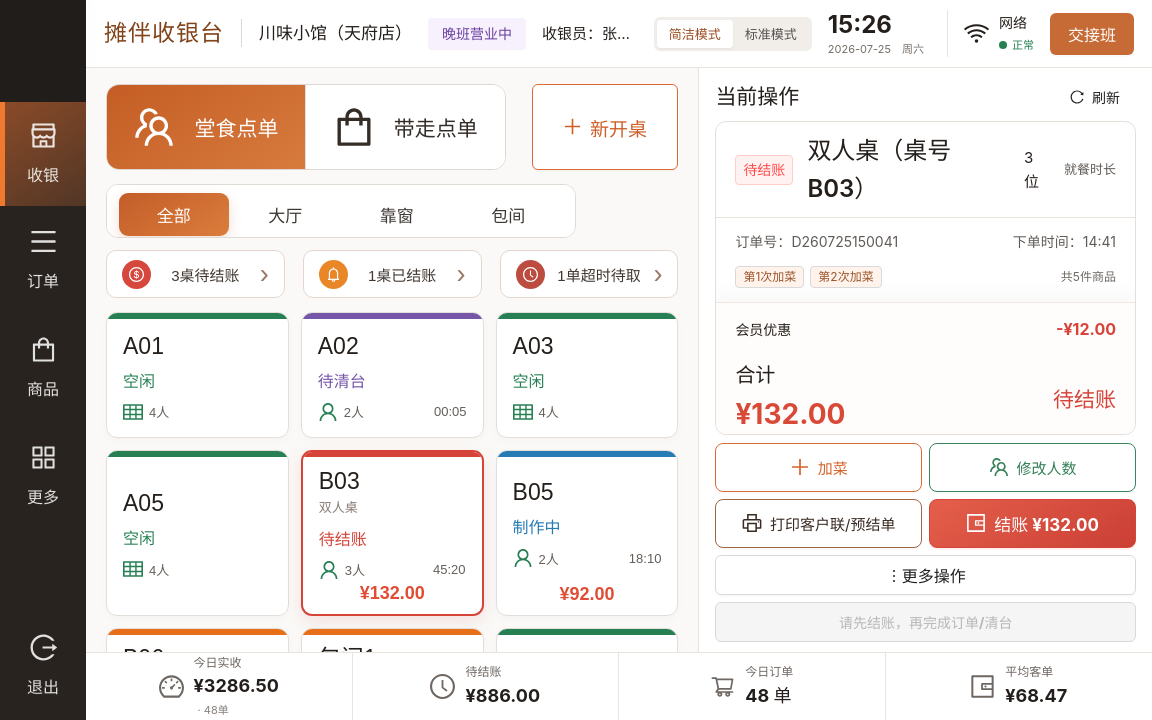
Test case: cashier operations › opens the diner count editor from the persistent action dock
What coordinates should you click on to do the following:
click the button "修改人数"
I would click on:
 (1033, 468)
Its box is [929,443,1136,492].
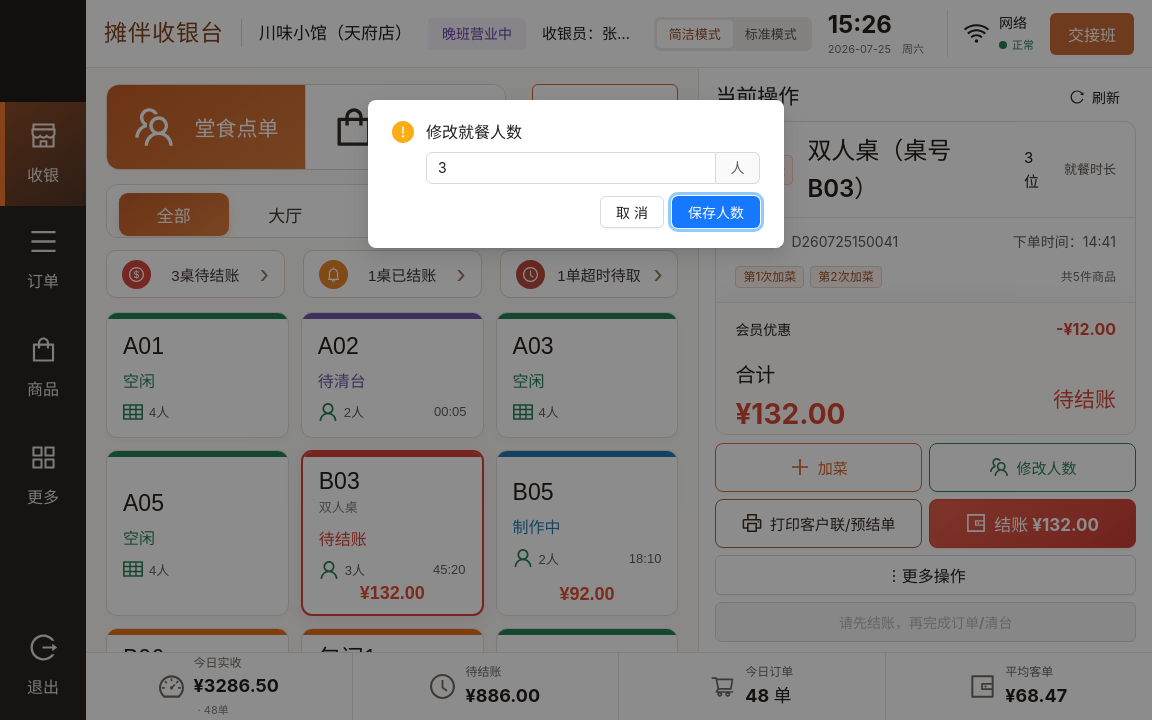
Check: the button "保存人数" is shown, box [672,196,760,228]
